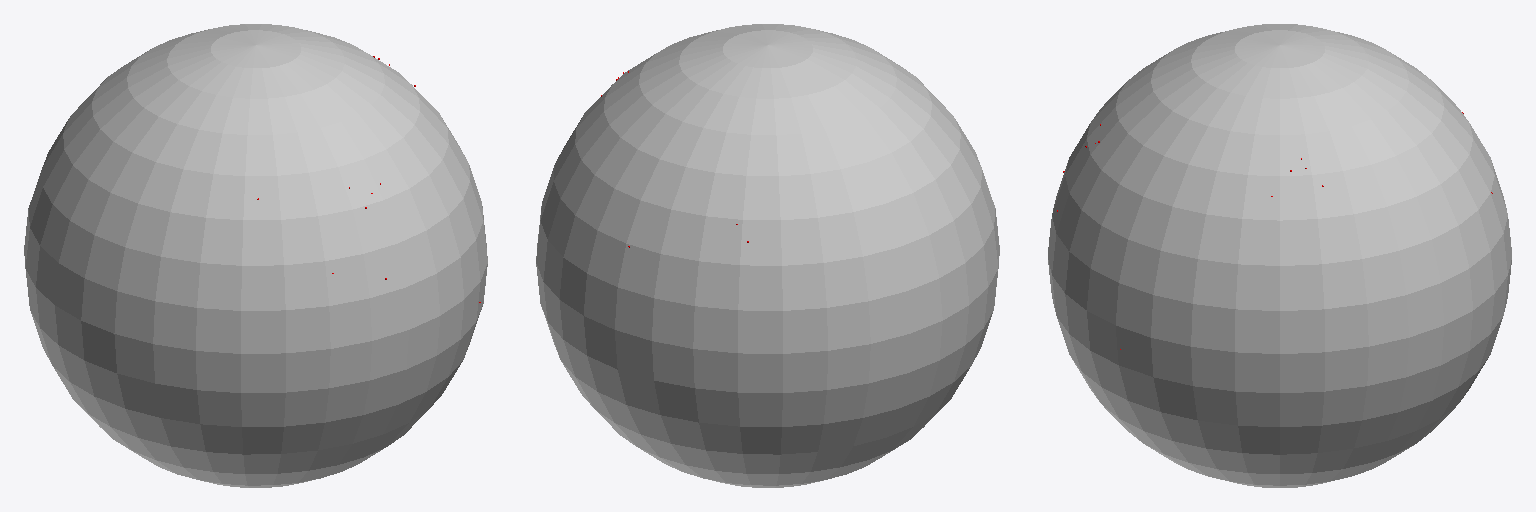
The model's file is globeLocations.obj.
3 renders of one model, left to right at view 1: azimuth 30°, elevation 25°; view 2: azimuth 150°, elevation 25°; view 3: azimuth 270°, elevation 25°, orthographic.
Visible parts, largest first — view 1: Sphere; view 2: Sphere; view 3: Sphere.
Boxes of the visible parts, box(x1,y1,x2,y2) form: Sphere: box(24, 24, 487, 487); Sphere: box(536, 24, 999, 487); Sphere: box(1048, 24, 1511, 487).
Bounding box in the file's own units: 10.74 × 10.74 × 10.74.